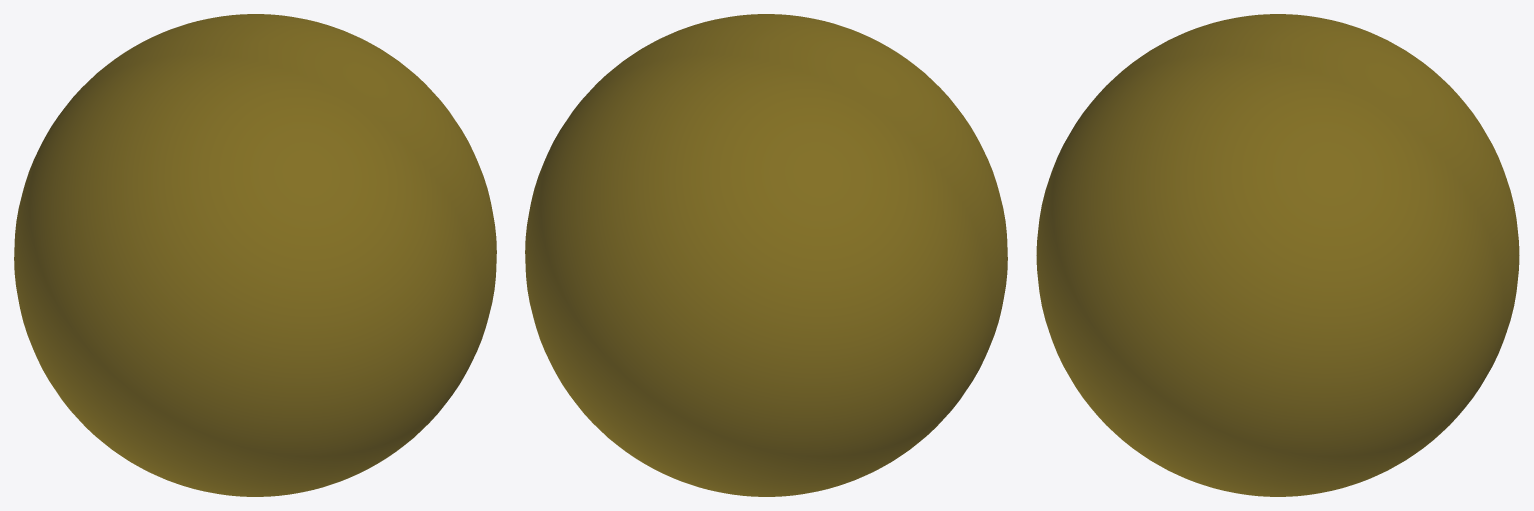
The model's file is spherePlaceholder.fbx.
The picture shows the model from 3 angles, left to right: view 1: azimuth 30°, elevation 25°; view 2: azimuth 150°, elevation 25°; view 3: azimuth 270°, elevation 25°; orthographic projection.
Visible parts, largest first — view 1: TransparentSphereObject; view 2: TransparentSphereObject; view 3: TransparentSphereObject.
Boxes of the visible parts, box(x1,y1,x2,y2) form: TransparentSphereObject: box(14, 14, 496, 496); TransparentSphereObject: box(525, 14, 1007, 496); TransparentSphereObject: box(1036, 14, 1519, 496).
Bounding box in the file's own units: 50 × 50 × 50.
